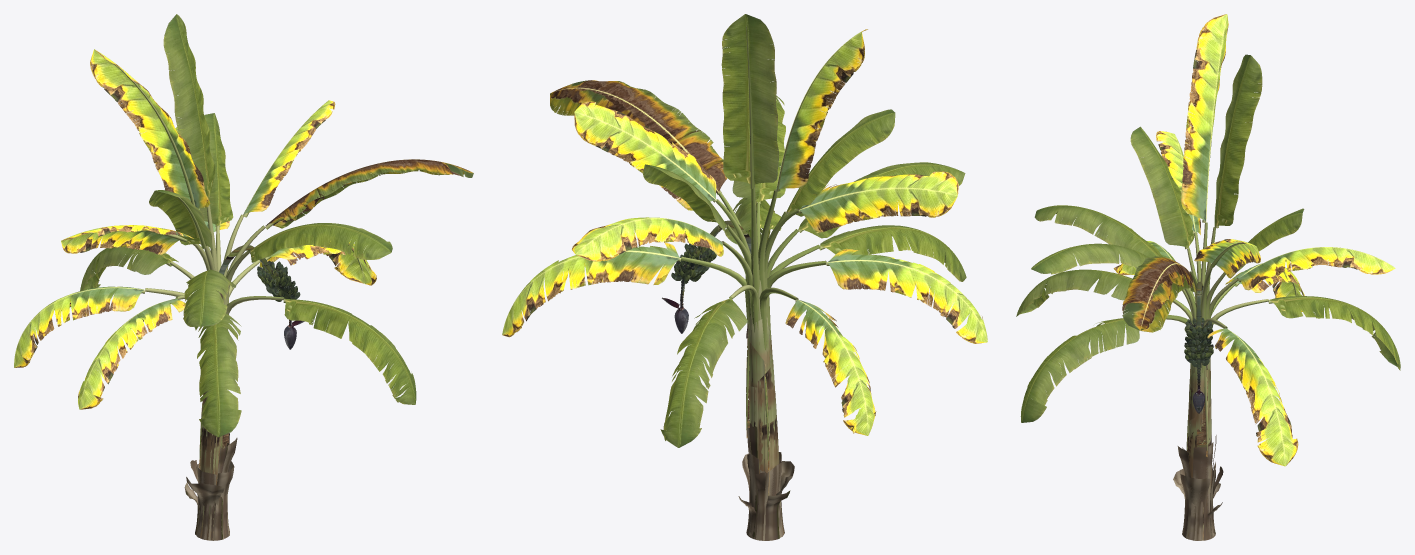
File: banana.glb
3 renders of one model, left to right at view 1: azimuth 30°, elevation 25°; view 2: azimuth 150°, elevation 25°; view 3: azimuth 270°, elevation 25°, orthographic. The views are drawn at different scales.
Parts seen in each view (by area): view 1: banana-banana-leaf, banana-banana-stem, banana-banana-bunch; view 2: banana-banana-leaf, banana-banana-stem, banana-banana-bunch; view 3: banana-banana-leaf, banana-banana-stem, banana-banana-bunch.
Boxes of the visible parts, x1,y1,x2,y2 form: banana-banana-leaf: (14, 14, 473, 467); banana-banana-stem: (86, 64, 362, 540); banana-banana-bunch: (219, 245, 304, 349); banana-banana-leaf: (502, 14, 987, 470); banana-banana-stem: (677, 26, 849, 540); banana-banana-bunch: (662, 220, 751, 333); banana-banana-leaf: (1016, 14, 1400, 466); banana-banana-stem: (1023, 59, 1296, 540); banana-banana-bunch: (1184, 281, 1213, 413).
Size of the model in its own units: 4.98 by 5.97 by 4.39.
3 materials, 3 textured.
